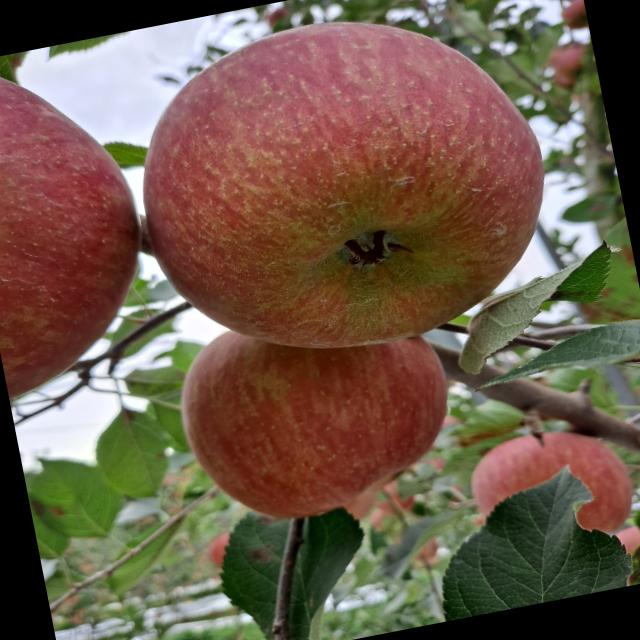fresh: (107, 1, 580, 393), (162, 282, 475, 538)
